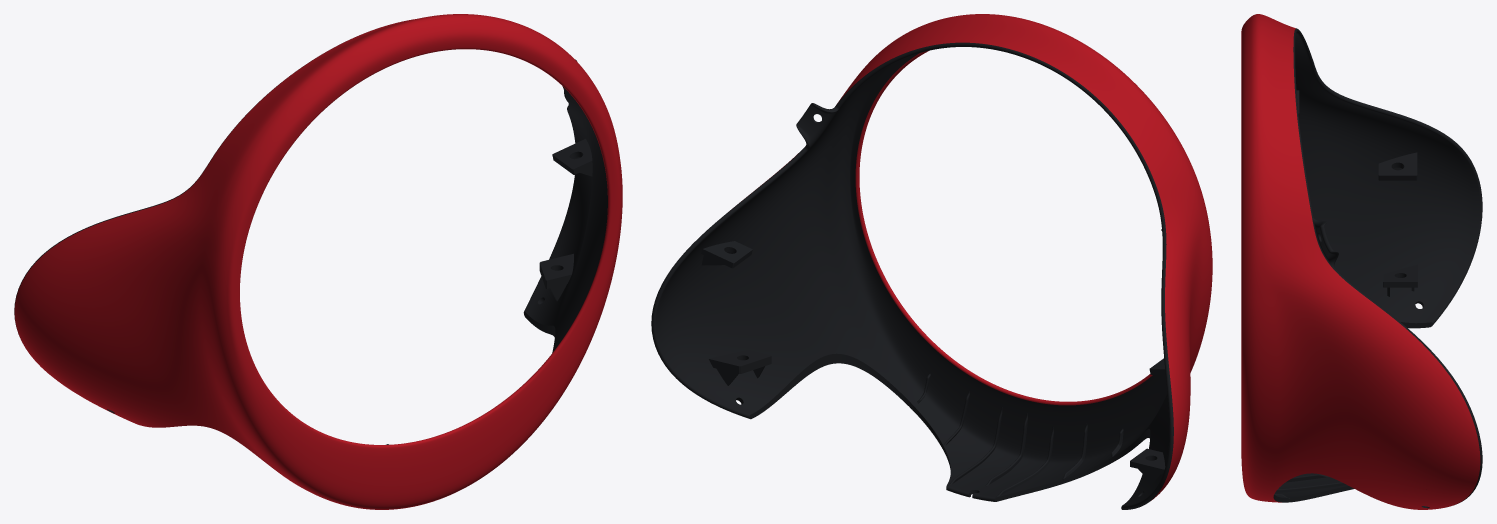
Rendered from headlamp-cowl-inspection.glb.
3 views of the same model, side by side, from view 1: azimuth 30°, elevation 25°; view 2: azimuth 150°, elevation 25°; view 3: azimuth 270°, elevation 25° (orthographic). The views are drawn at different scales.
Parts seen in each view (by area): view 1: Headlamp cowl shell - bounded relatedvariant WEWA candidate; view 2: Headlamp cowl shell - bounded relatedvariant WEWA candidate; view 3: Headlamp cowl shell - bounded relatedvariant WEWA candidate.
Part boxes in pixels (x1,y1,x2,y2): Headlamp cowl shell - bounded relatedvariant WEWA candidate: [14, 14, 622, 509]; Headlamp cowl shell - bounded relatedvariant WEWA candidate: [651, 14, 1212, 509]; Headlamp cowl shell - bounded relatedvariant WEWA candidate: [1241, 14, 1482, 509].
Size of the model in its own units: 0.3137 by 0.2577 by 0.1249.
